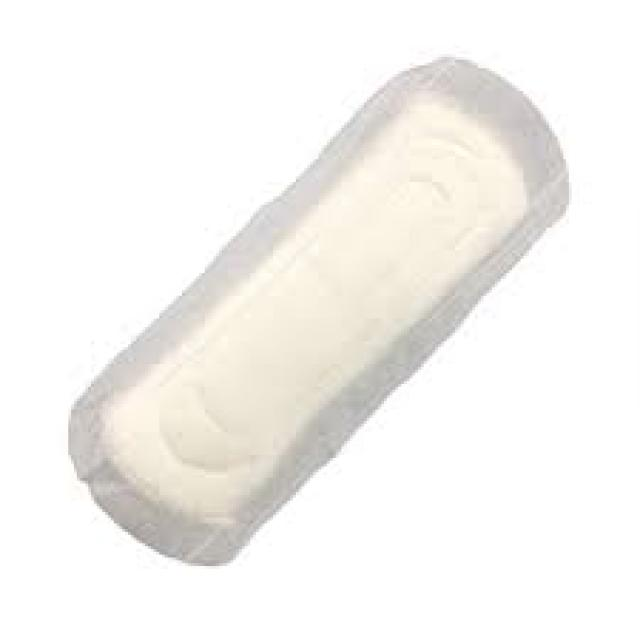napkin: (70, 59, 564, 563)
